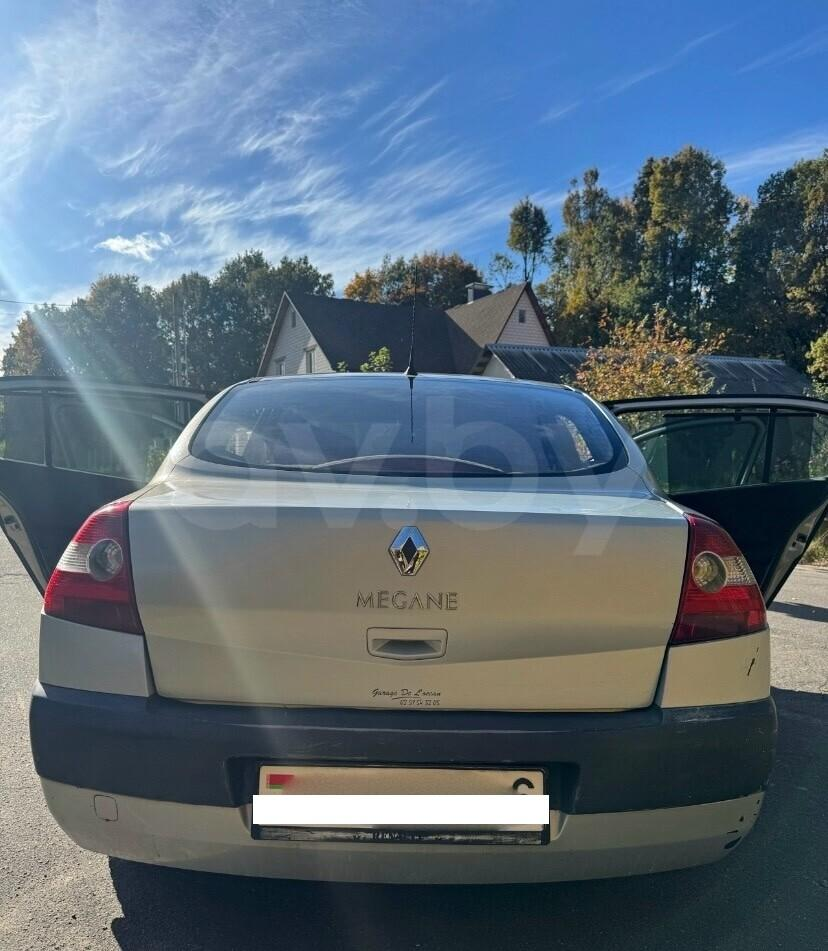Megane_2002-2006: (26, 365, 791, 902)
